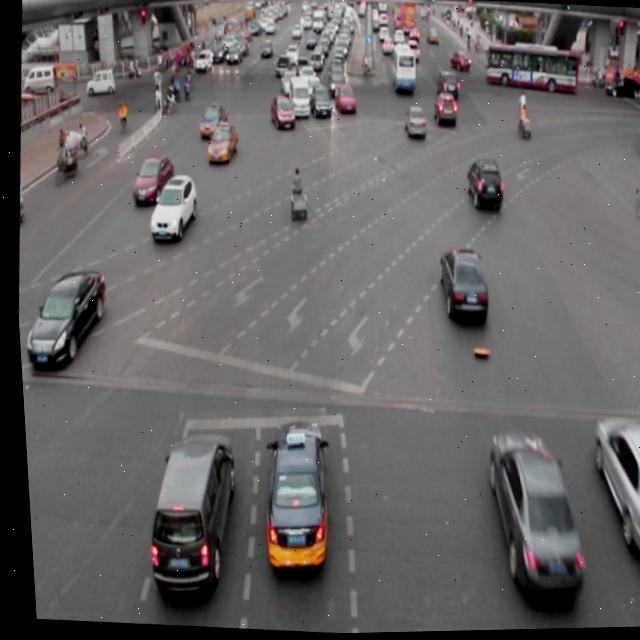car: (474, 433, 582, 602), (250, 417, 330, 570), (16, 265, 106, 369), (579, 416, 640, 561), (430, 246, 487, 328), (144, 171, 197, 241), (127, 154, 173, 207), (461, 158, 502, 215), (202, 121, 236, 168), (266, 91, 295, 134), (196, 101, 226, 142), (400, 103, 427, 143), (429, 90, 456, 129), (307, 82, 332, 123), (330, 81, 356, 117)
truck: (136, 429, 238, 600), (283, 75, 313, 120)
